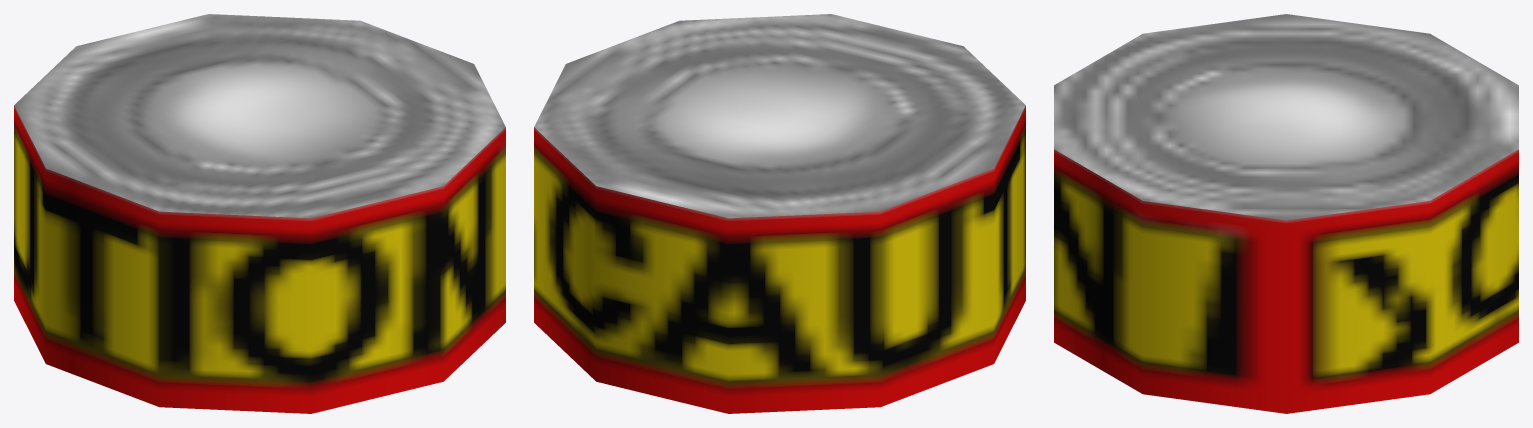
The model's file is giftgoods084d.fbx.
3 renders of one model, left to right at view 1: azimuth 30°, elevation 25°; view 2: azimuth 150°, elevation 25°; view 3: azimuth 270°, elevation 25°, orthographic.
Visible parts, largest first — view 1: giftgoods084d; view 2: giftgoods084d; view 3: giftgoods084d.
Part boxes in pixels (bbox=[...]): giftgoods084d: bbox=[14, 14, 505, 413]; giftgoods084d: bbox=[534, 14, 1025, 413]; giftgoods084d: bbox=[1054, 14, 1518, 413].
Bounding box in the file's own units: 0.1255 × 0.0548 × 0.1193.
